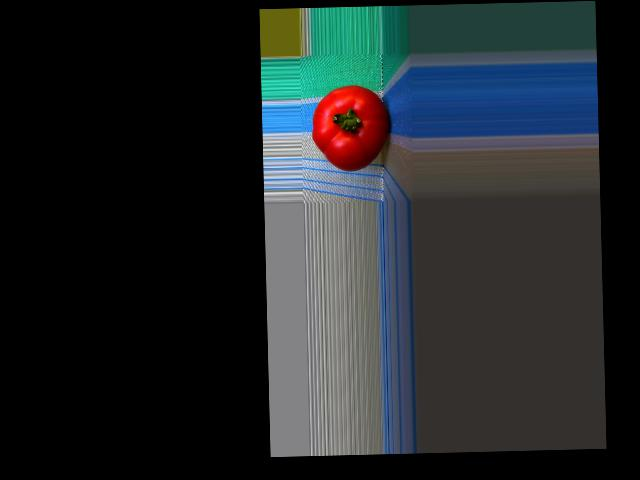tomato: (311, 84, 391, 171)
